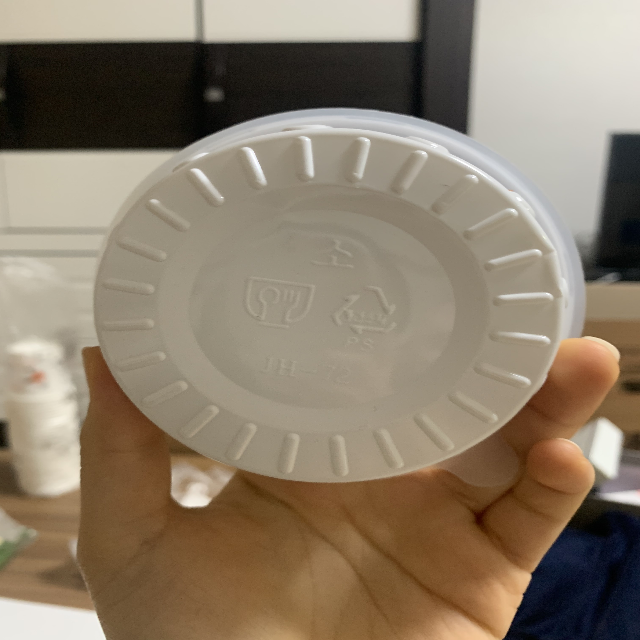ps: (331, 283, 396, 350)
